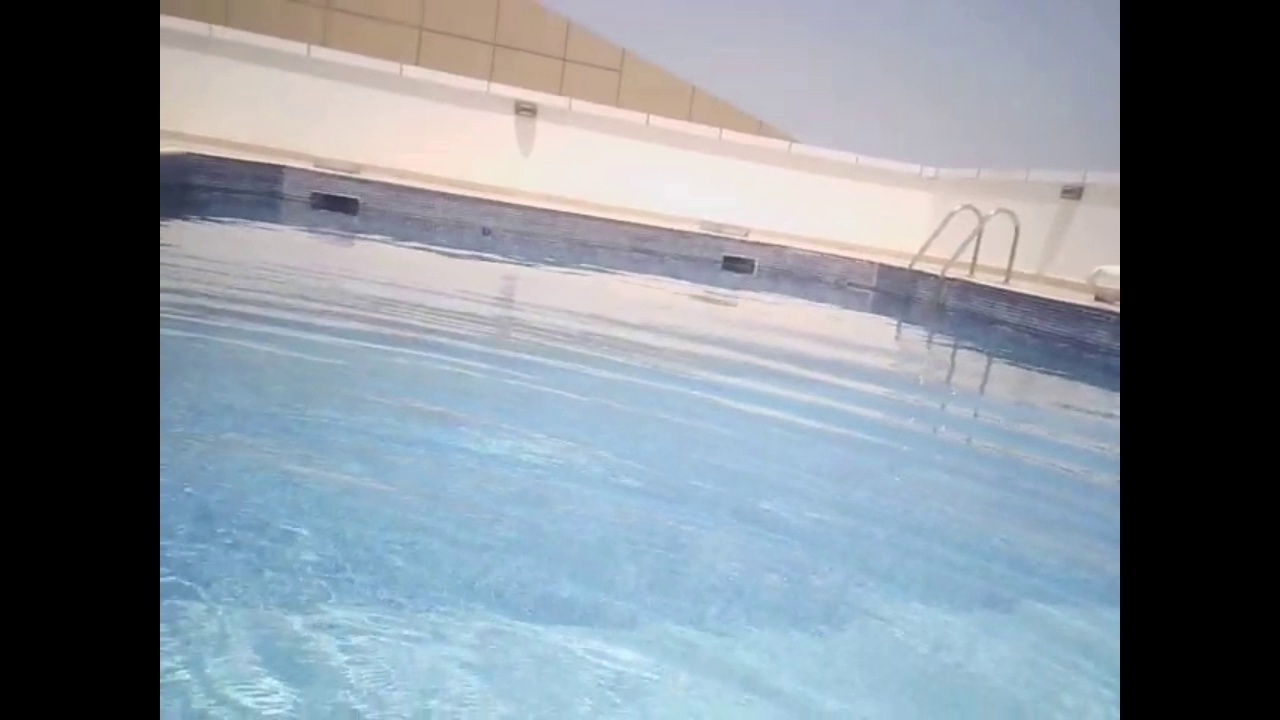debris: (478, 223, 494, 239)
